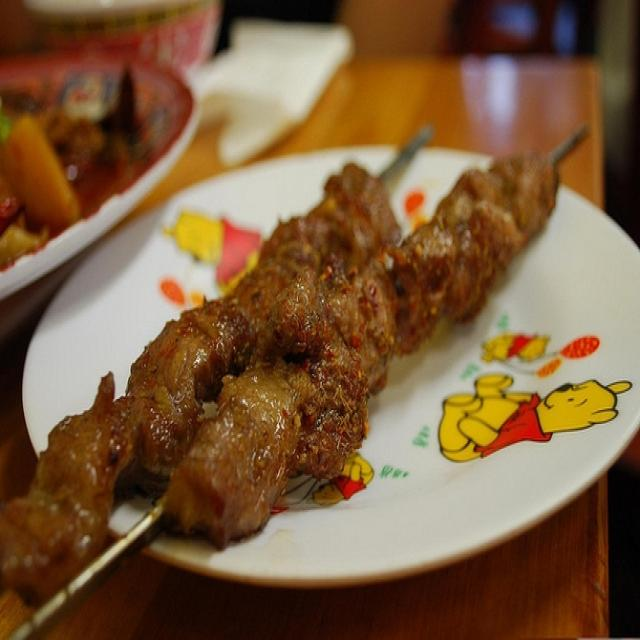烧串烤肉: (27, 80, 588, 626)
